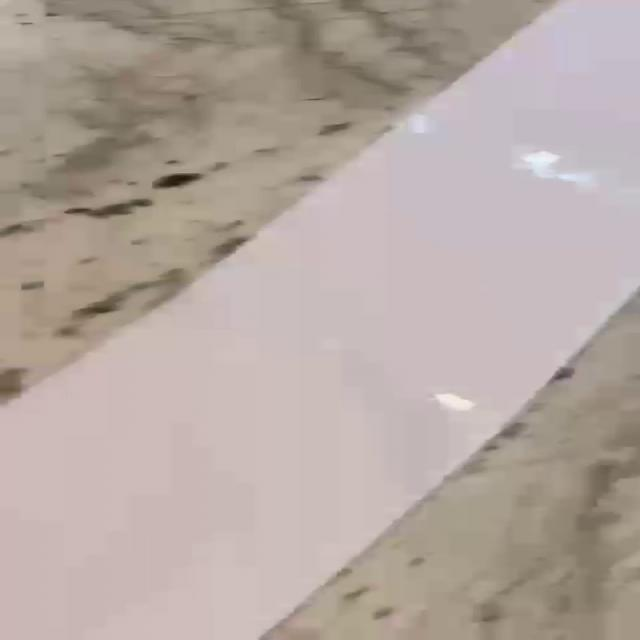road: (0, 0, 640, 640)
